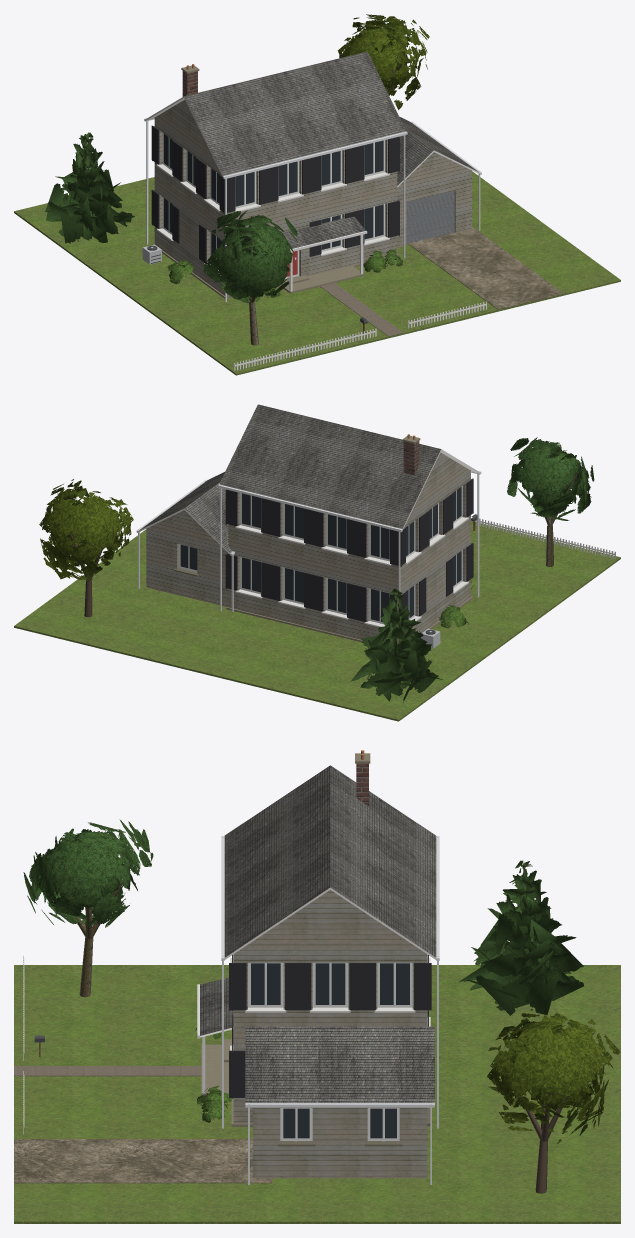
File: house_gable_white.glb
3 views of the same model, one above another, from view 1: azimuth 30°, elevation 25°; view 2: azimuth 150°, elevation 25°; view 3: azimuth 270°, elevation 25° (orthographic). The views are drawn at different scales.
Parts seen in each view (by area): view 1: house_gable_white_body, house_gable_white_foliage; view 2: house_gable_white_body, house_gable_white_foliage; view 3: house_gable_white_body, house_gable_white_foliage.
Part boxes in pixels (bbox=[...]): house_gable_white_body: bbox=[14, 51, 620, 375]; house_gable_white_foliage: bbox=[45, 14, 429, 302]; house_gable_white_body: bbox=[14, 404, 620, 721]; house_gable_white_foliage: bbox=[39, 437, 594, 702]; house_gable_white_body: bbox=[14, 750, 620, 1223]; house_gable_white_foliage: bbox=[23, 819, 620, 1144].
Bounding box in the file's own units: 0.94 × 0.4606 × 0.94.
Materials: 27 (16 with a texture image).
